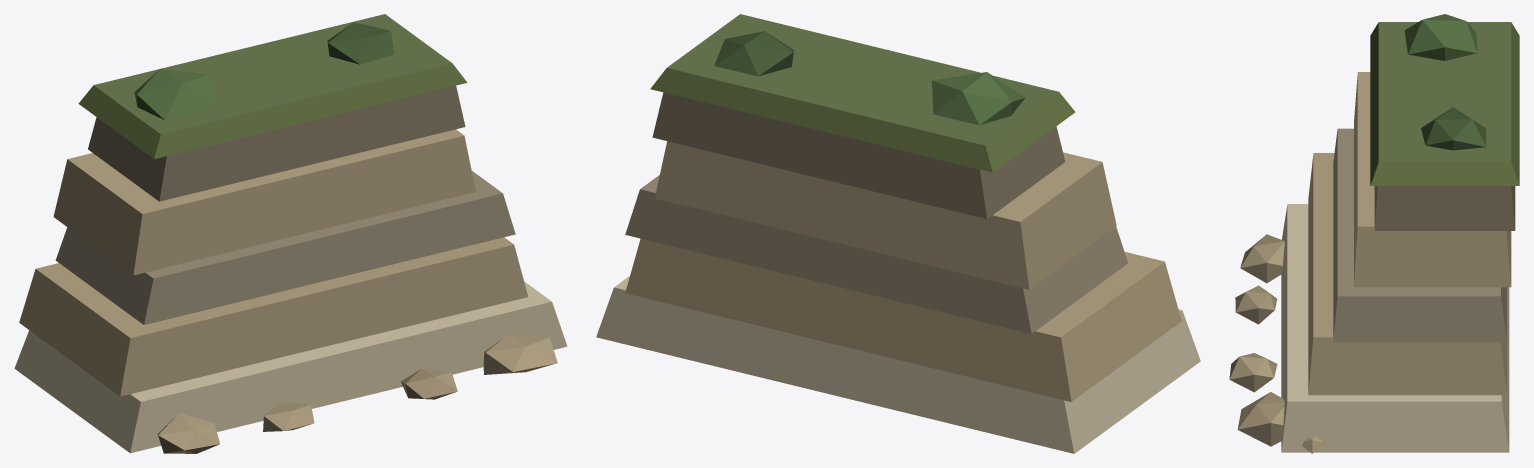
Rendered from bluff_rock.glb.
3 views of the same model, side by side, from view 1: azimuth 30°, elevation 25°; view 2: azimuth 150°, elevation 25°; view 3: azimuth 270°, elevation 25° (orthographic). The views are drawn at different scales.
Visible parts, largest first — view 1: bluff_rock; view 2: bluff_rock; view 3: bluff_rock.
Part boxes in pixels (x1,y1,x2,y2): bluff_rock: [14, 14, 567, 453]; bluff_rock: [596, 14, 1200, 453]; bluff_rock: [1229, 14, 1519, 453].
Size of the model in its own units: 12.16 by 7.6 by 7.01.
